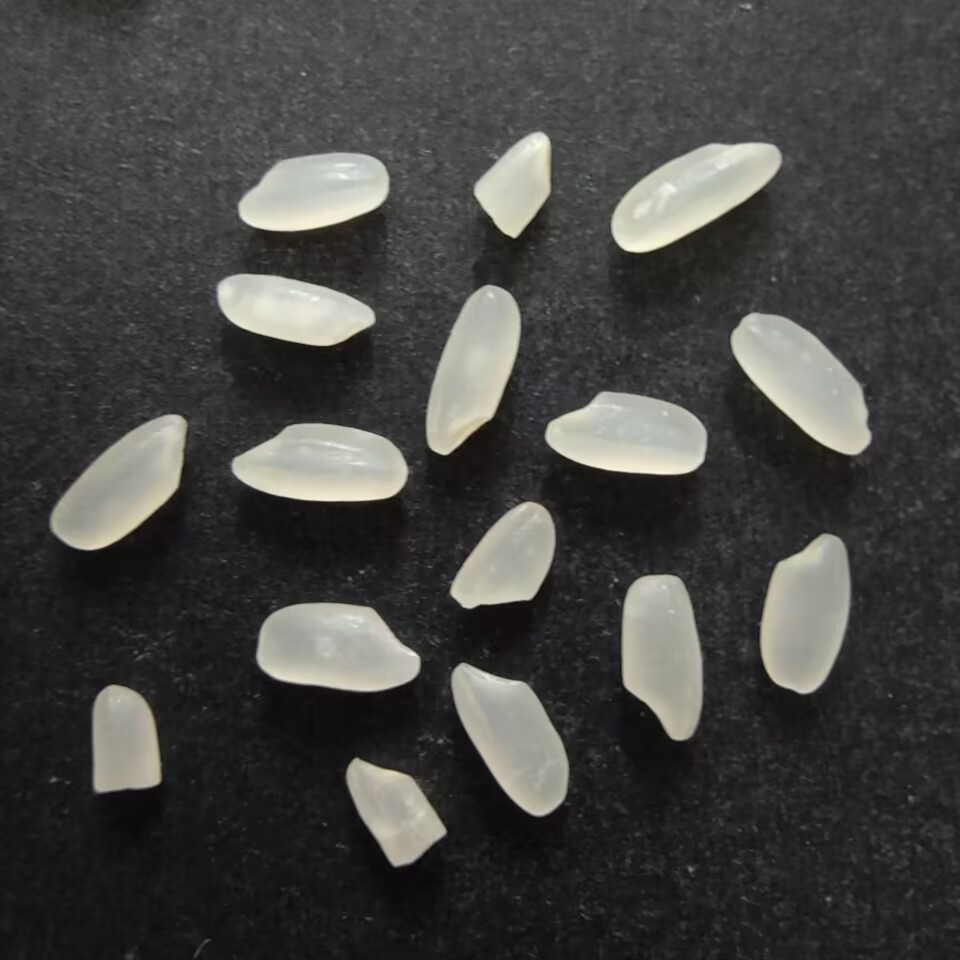broken: (340, 755, 453, 872), (448, 497, 558, 614), (86, 681, 167, 801), (472, 130, 556, 245)
rice: (607, 137, 786, 259), (731, 310, 878, 456), (49, 406, 190, 555), (448, 661, 572, 817), (423, 282, 526, 459), (614, 568, 713, 747), (758, 529, 854, 696), (539, 387, 711, 480), (253, 602, 425, 695), (229, 420, 409, 506), (235, 149, 392, 235), (208, 272, 379, 348)
